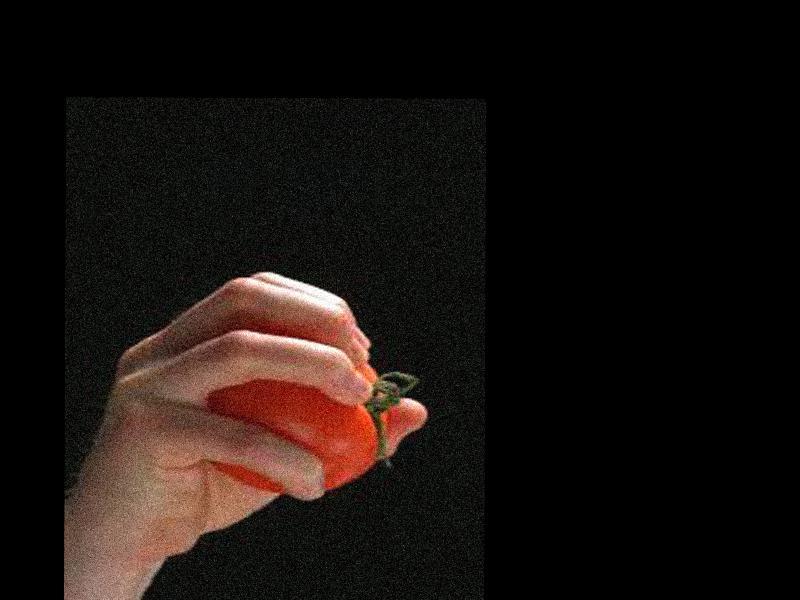Tomato: (201, 360, 379, 493)
